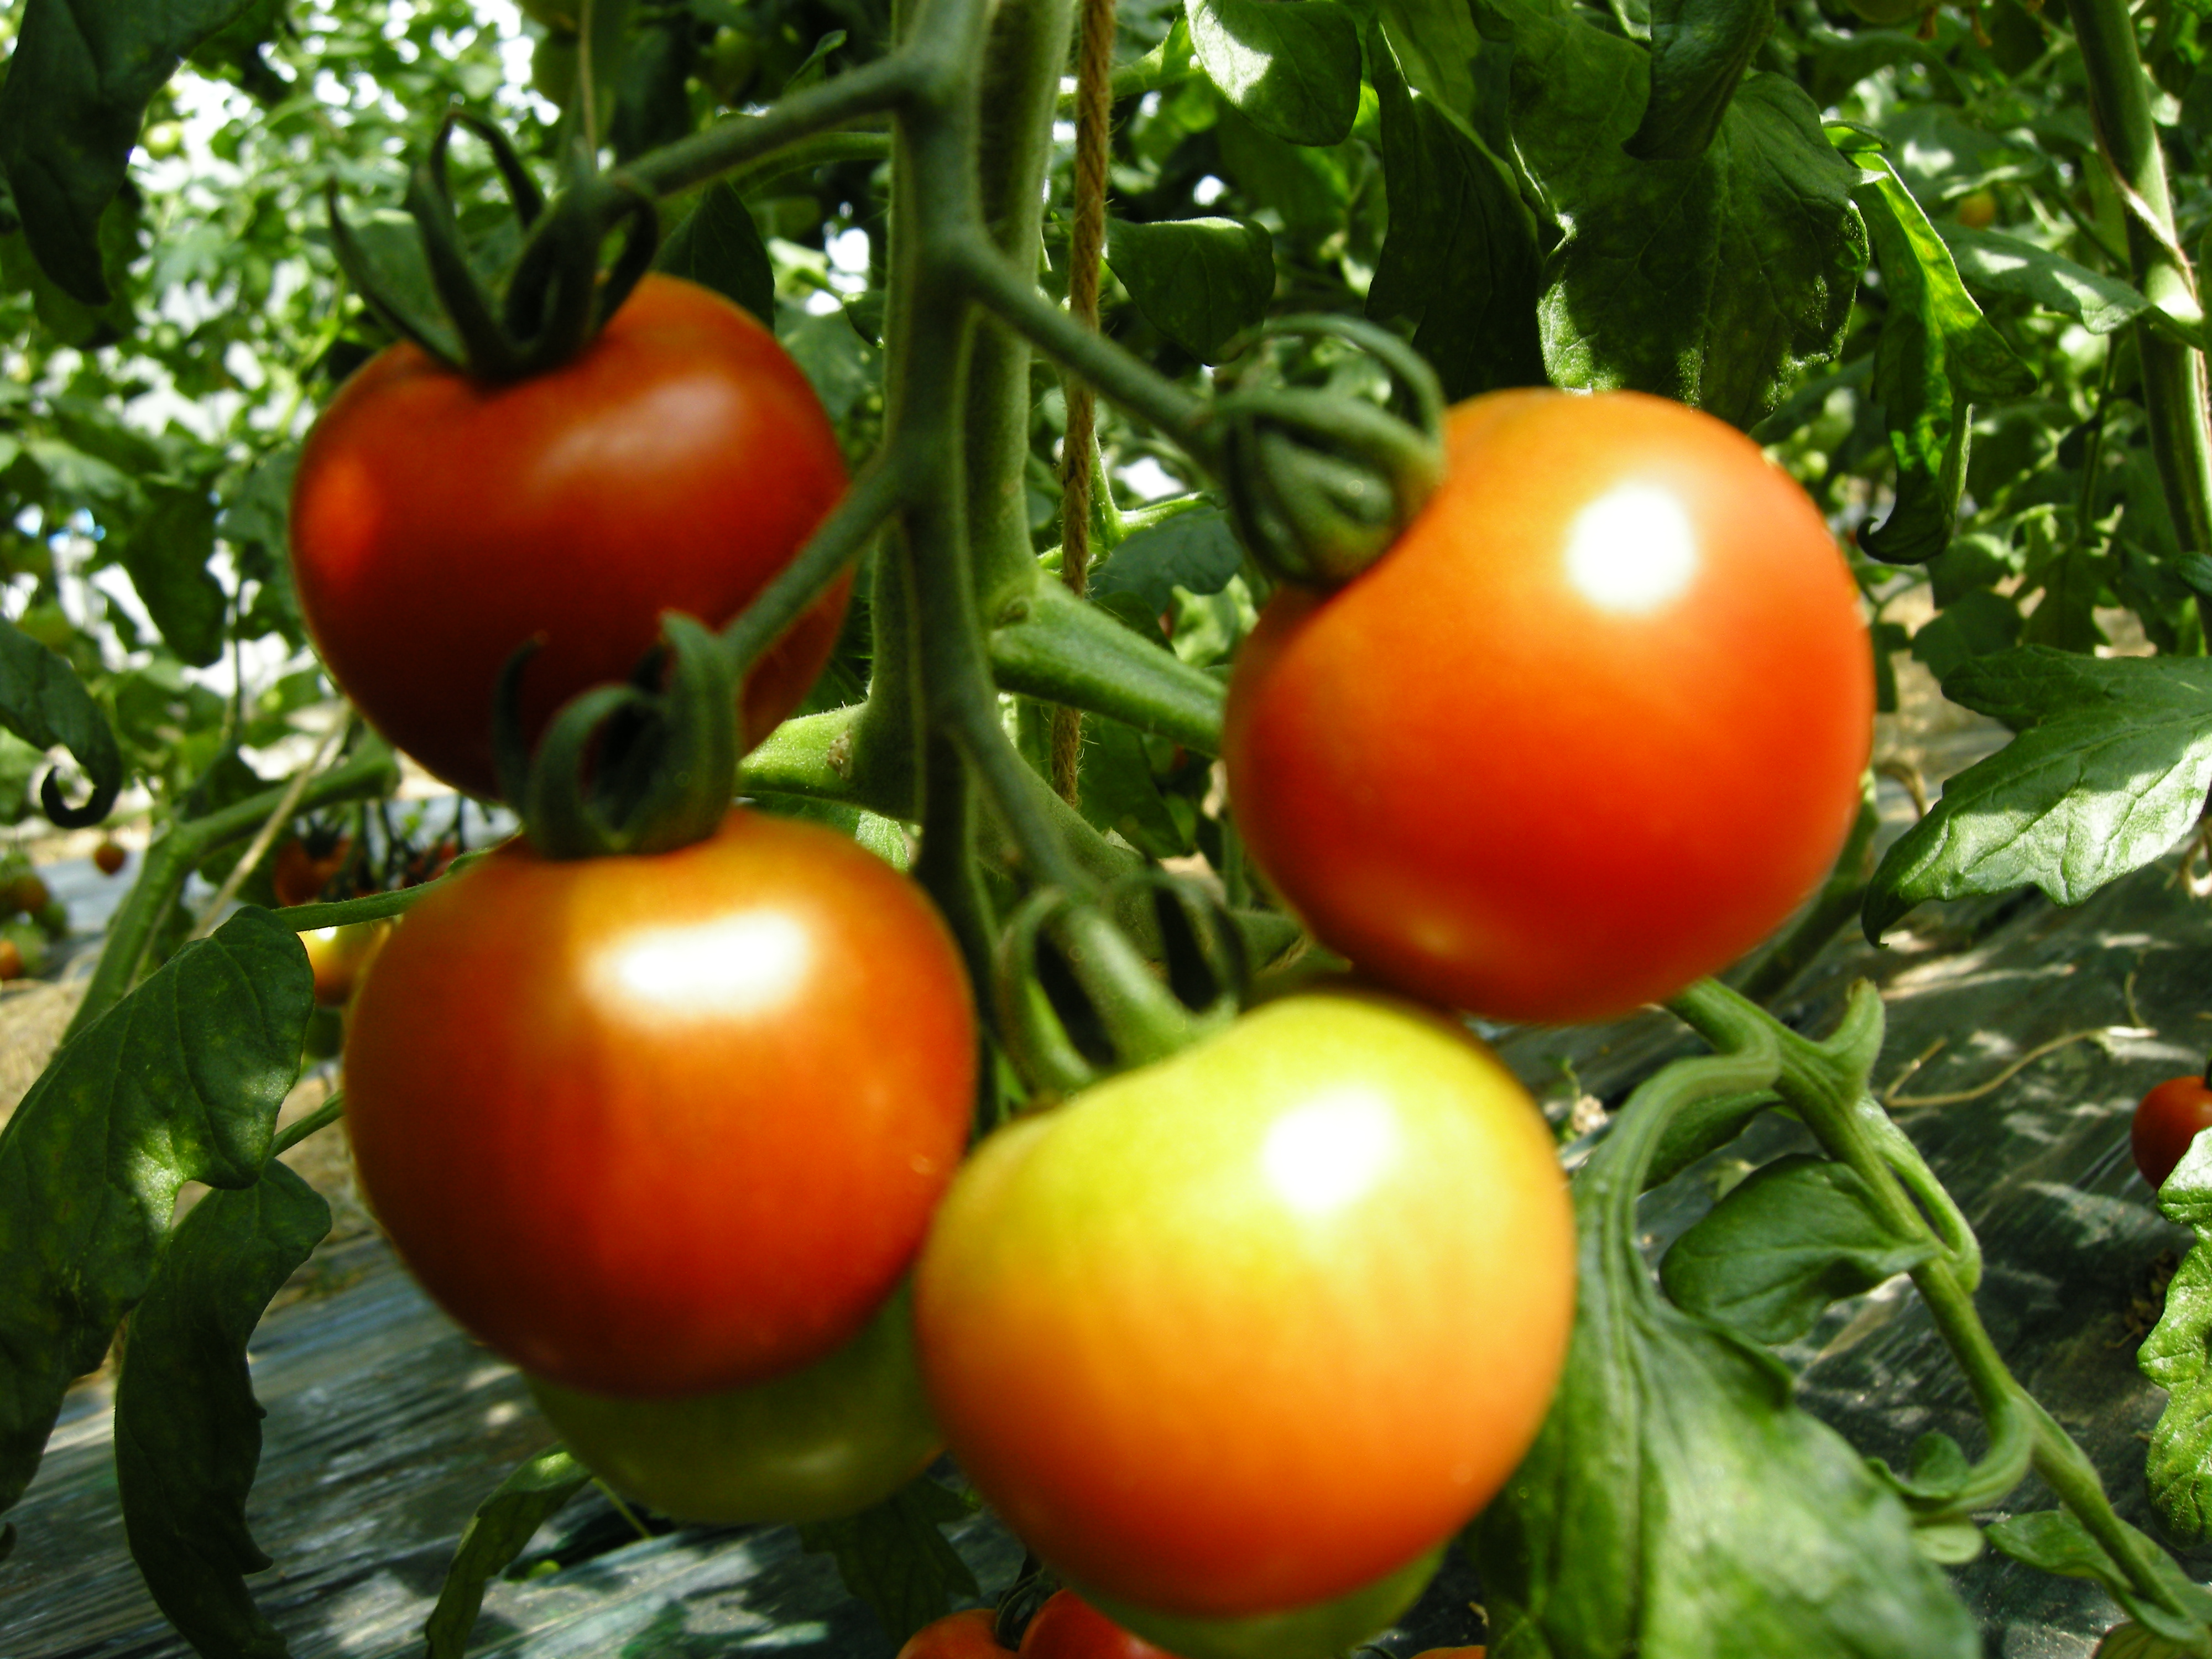stems: (592, 434, 885, 821), (1001, 666, 1230, 1058), (500, 96, 883, 328)
tomato: (1216, 382, 1865, 1042), (923, 999, 1588, 1628), (340, 793, 989, 1425), (279, 246, 880, 781)
